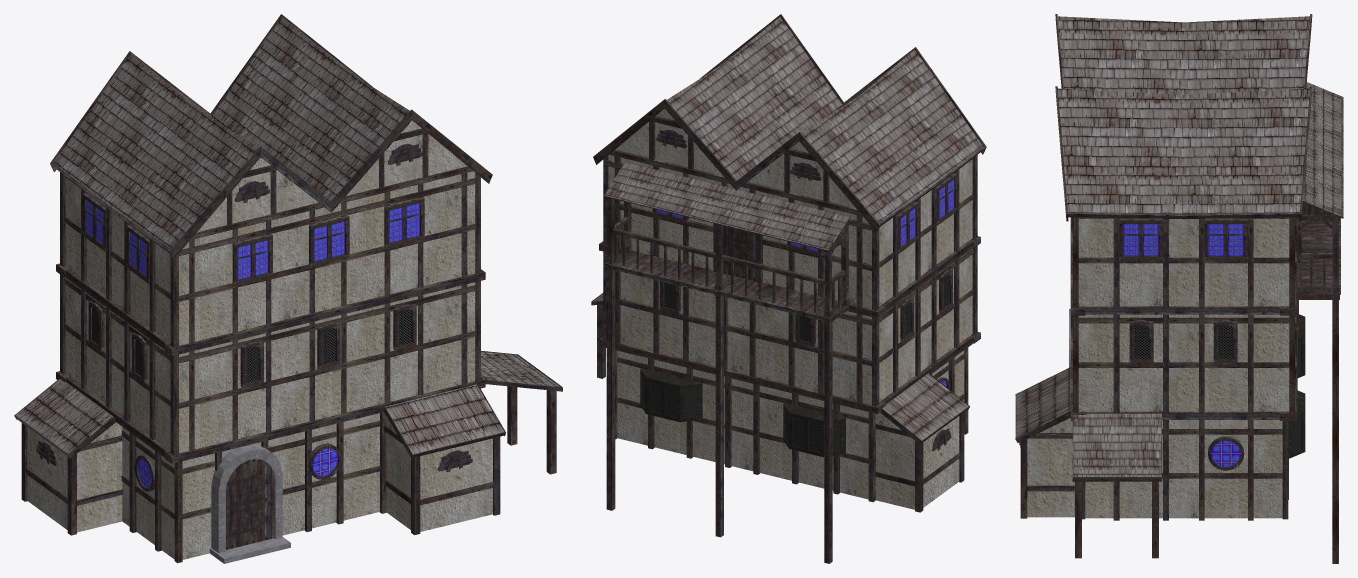
File: house04.dae
3 renders of one model, left to right at view 1: azimuth 30°, elevation 25°; view 2: azimuth 150°, elevation 25°; view 3: azimuth 270°, elevation 25°, orthographic. The views are drawn at different scales.
Visible parts, largest first — view 1: House2_Roof, House2_Level3, House2_Level2, House2_Level3_Beams, House2_Level2_Beams, House2_Level1, BuildingExtensions4_001, House2_Level1_Beams, BuildingExtensions4_002, House2_Roof_Frame, BuildingExtensions4Roof_001, House2_Level2_SeperatorBeams (+18 smaller); view 2: House2_Roof, House2_Level2, House2_Level3, House2_Level1, House2_Level2_Beams, House2_Level3_Beams, Balcony1Roof, Balcony1Stilts, Balcony1, House2_Level1_Beams, BuildingExtensions4_002, House2_Roof_Frame (+14 smaller); view 3: House2_Roof, House2_Level2, House2_Level3, House2_Level1, House2_Level2_Beams, Roof2Outer, House2_Level3_Beams, Balcony1Roof, House2_Level1_Beams, BuildingExtensions4_001, Balcony1, House2_Roof_Frame (+19 smaller).
Part boxes in pixels (x1,y1,x2,y2): House2_Roof: [53, 17, 409, 248]; House2_Level3: [65, 120, 475, 345]; House2_Level2: [65, 280, 475, 453]; House2_Level3_Beams: [60, 128, 480, 347]; House2_Level2_Beams: [60, 274, 480, 455]; House2_Level1: [122, 413, 379, 559]; BuildingExtensions4_001: [386, 416, 492, 531]; House2_Level1_Beams: [121, 412, 386, 563]; BuildingExtensions4_002: [27, 422, 122, 532]; House2_Roof_Frame: [50, 14, 492, 259]; BuildingExtensions4Roof_001: [385, 384, 504, 453]; House2_Level2_SeperatorBeams: [56, 263, 485, 355]; House2_Roof: [666, 17, 983, 222]; House2_Level2: [620, 250, 972, 404]; House2_Level3: [608, 108, 972, 308]; House2_Level1: [617, 350, 964, 499]; House2_Level2_Beams: [603, 246, 977, 406]; House2_Level3_Beams: [603, 116, 977, 310]; Balcony1Roof: [604, 161, 849, 250]; Balcony1Stilts: [606, 270, 832, 563]; Balcony1: [604, 196, 850, 319]; House2_Level1_Beams: [615, 347, 968, 502]; BuildingExtensions4_002: [876, 412, 959, 509]; House2_Roof_Frame: [593, 14, 986, 231]; House2_Roof: [1057, 16, 1309, 213]; House2_Level2: [1078, 314, 1289, 411]; House2_Level3: [1078, 218, 1289, 306]; House2_Level1: [1085, 420, 1282, 518]; House2_Level2_Beams: [1073, 314, 1296, 412]; Roof2Outer: [1073, 413, 1161, 476]; House2_Level3_Beams: [1073, 198, 1296, 307]; Balcony1Roof: [1303, 82, 1343, 217]; House2_Level1_Beams: [1082, 420, 1288, 520]; BuildingExtensions4_001: [1027, 417, 1074, 517]; Balcony1: [1296, 201, 1343, 294]; House2_Roof_Frame: [1055, 14, 1312, 221].
Size of the model in its own units: 11.25 by 7.48 by 11.39.
26 materials, 26 textured.
